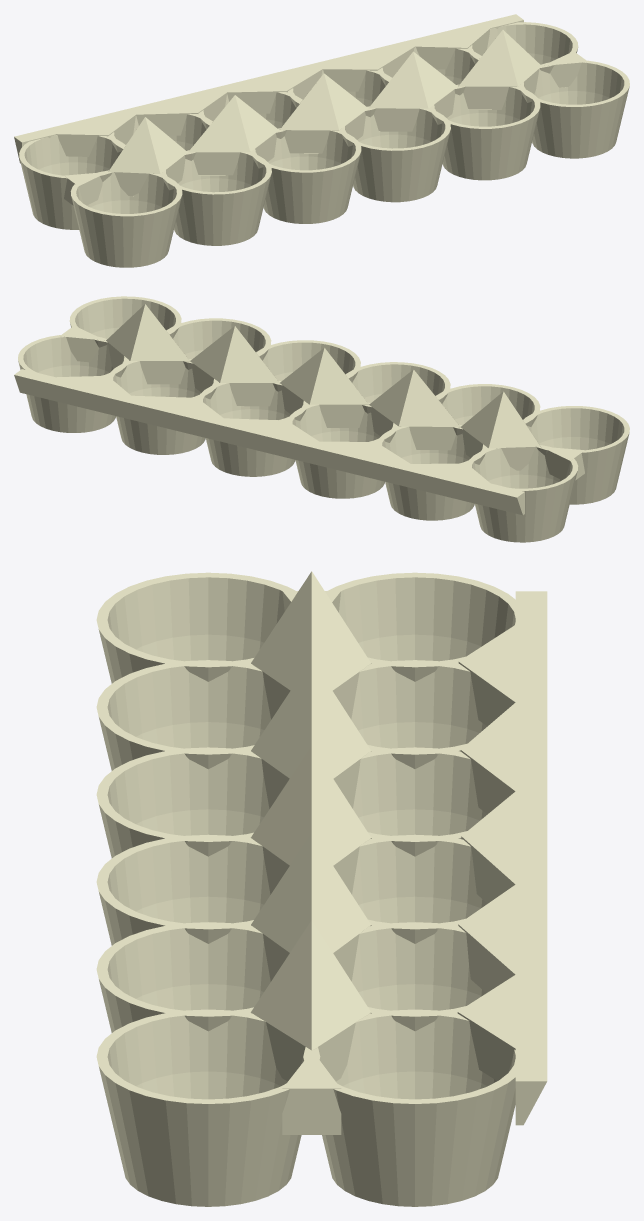
Rendered from EggCarton(Bottom)V1.fbx.
The picture shows the model from 3 angles, top to bottom: view 1: azimuth 30°, elevation 25°; view 2: azimuth 150°, elevation 25°; view 3: azimuth 270°, elevation 25°; orthographic projection. The views are drawn at different scales.
Visible parts, largest first — view 1: Cube.001; view 2: Cube.001; view 3: Cube.001.
Boxes of the visible parts, x1,y1,x2,y2 form: Cube.001: [14, 14, 629, 267]; Cube.001: [14, 296, 629, 542]; Cube.001: [96, 571, 547, 1206].
Size of the model in its own units: 196 by 547 by 99.38.
